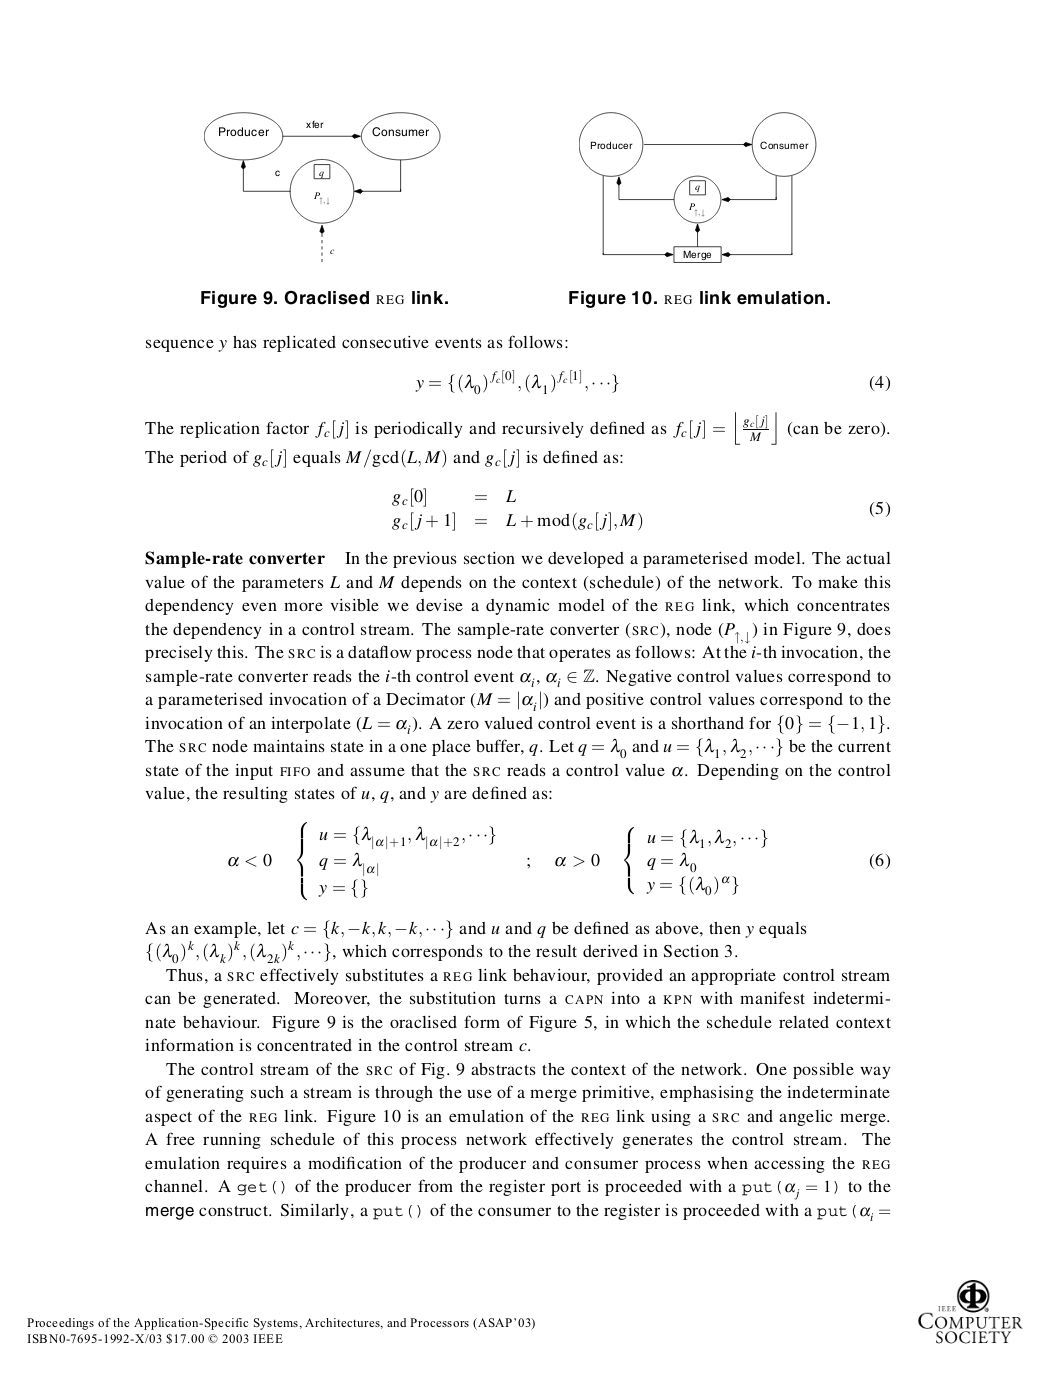figure: (580, 111, 816, 262), (204, 111, 440, 261), (918, 1281, 1022, 1343)
formula: (228, 821, 890, 900), (392, 487, 890, 530), (415, 369, 890, 395)
